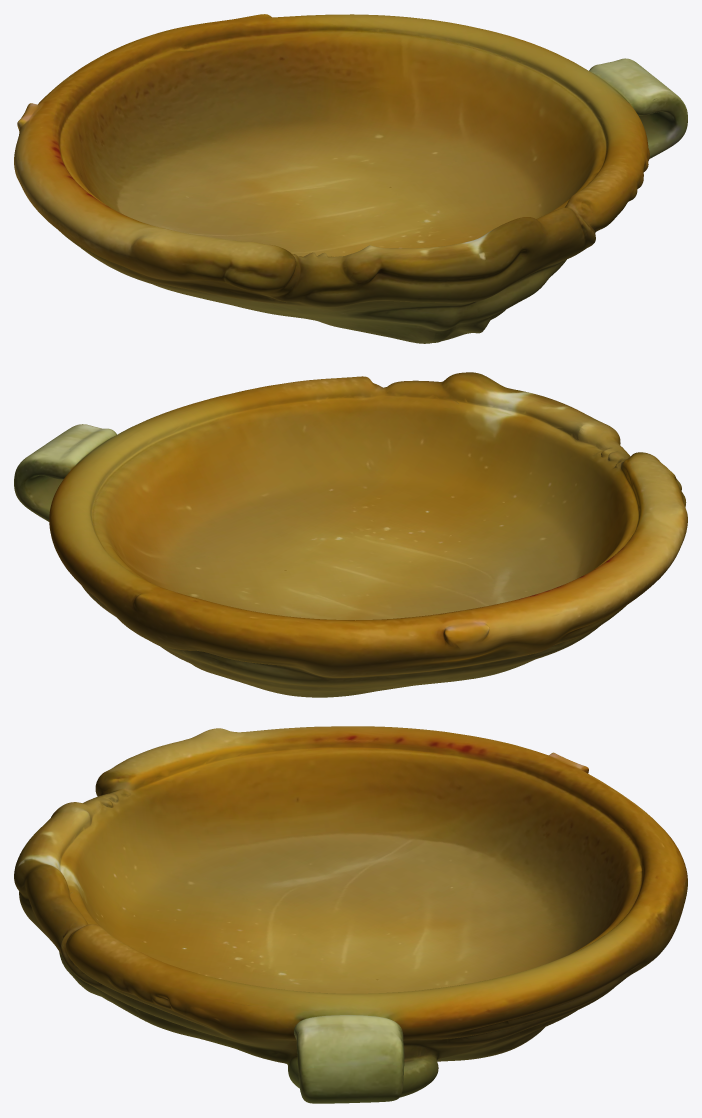
File: fuente_magna.glb
3 renders of one model, top to bottom at view 1: azimuth 30°, elevation 25°; view 2: azimuth 150°, elevation 25°; view 3: azimuth 270°, elevation 25°, orthographic. The views are drawn at different scales.
Parts seen in each view (by area): view 1: material; view 2: material; view 3: material.
Part boxes in pixels (box(x1,y1,x2,y2)): material: box(14, 14, 687, 343); material: box(14, 372, 687, 697); material: box(14, 726, 687, 1103).
Size of the model in its own units: 1.18 by 0.2783 by 1.07.
Materials: 1 (1 with a texture image).
